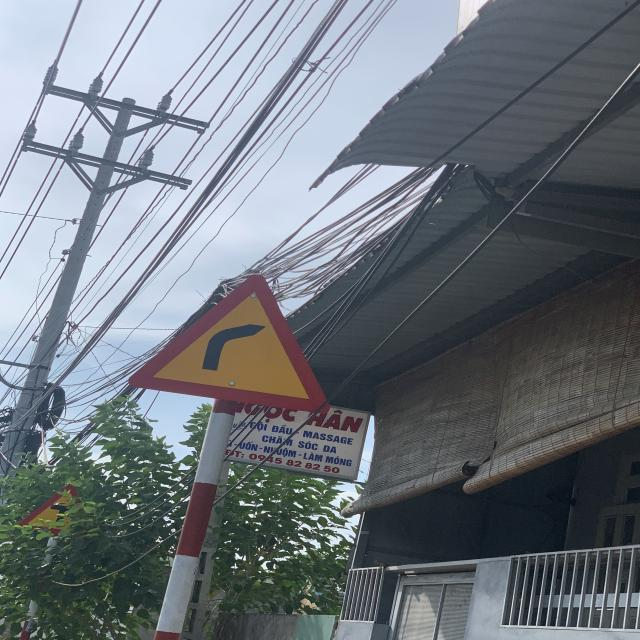Duong_Nguoi_Di_Bo_Cat_Ngang: (133, 270, 330, 416)
